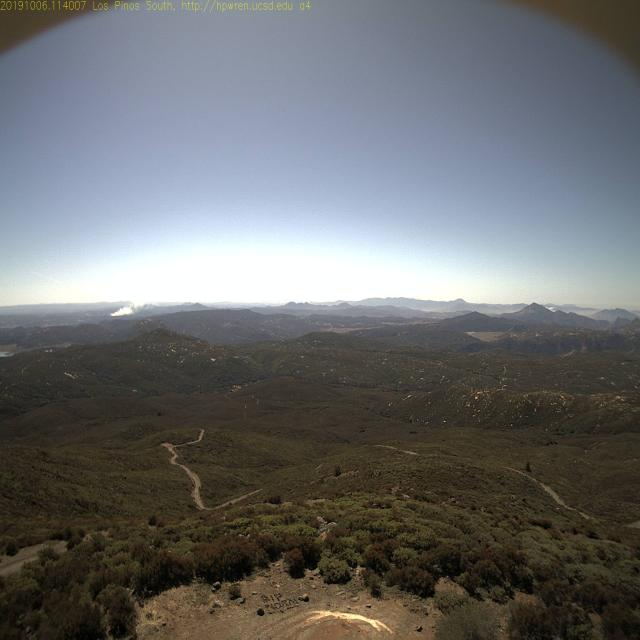smoke: (106, 294, 166, 323), (542, 300, 556, 312)
